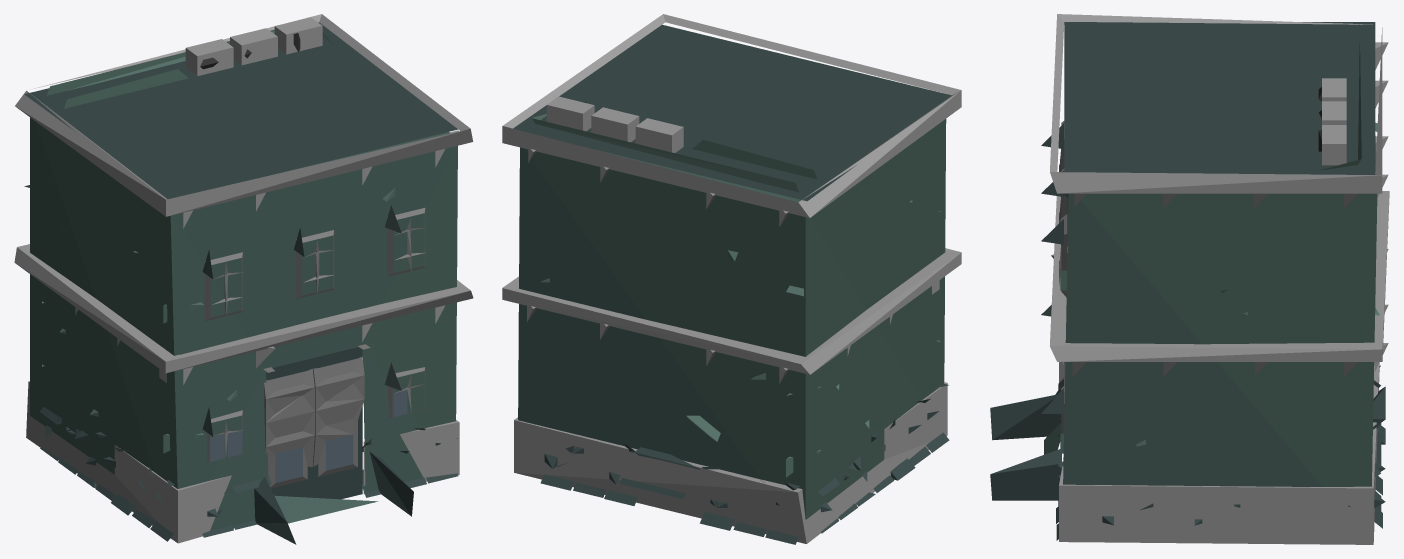
Rendered from 2Story_Double_lod.glb.
3 renders of one model, left to right at view 1: azimuth 30°, elevation 25°; view 2: azimuth 150°, elevation 25°; view 3: azimuth 270°, elevation 25°, orthographic. The views are drawn at different scales.
Visible parts, largest first — view 1: 2Story_Double_Mat; view 2: 2Story_Double_Mat; view 3: 2Story_Double_Mat.
Boxes of the visible parts, x1,y1,x2,y2 form: 2Story_Double_Mat: [14, 14, 473, 544]; 2Story_Double_Mat: [502, 14, 961, 544]; 2Story_Double_Mat: [990, 14, 1389, 544].
Size of the model in its own units: 2.42 by 2.73 by 2.53.
